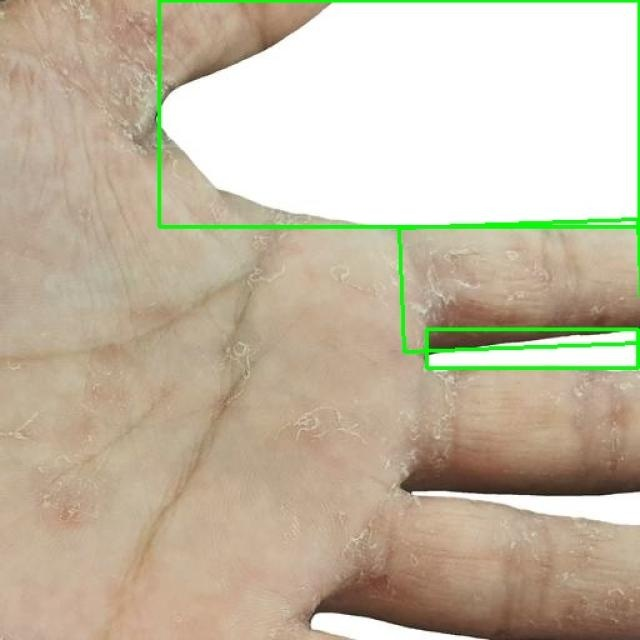Scabies: (159, 0, 639, 226), (400, 219, 640, 352), (428, 330, 639, 369)
